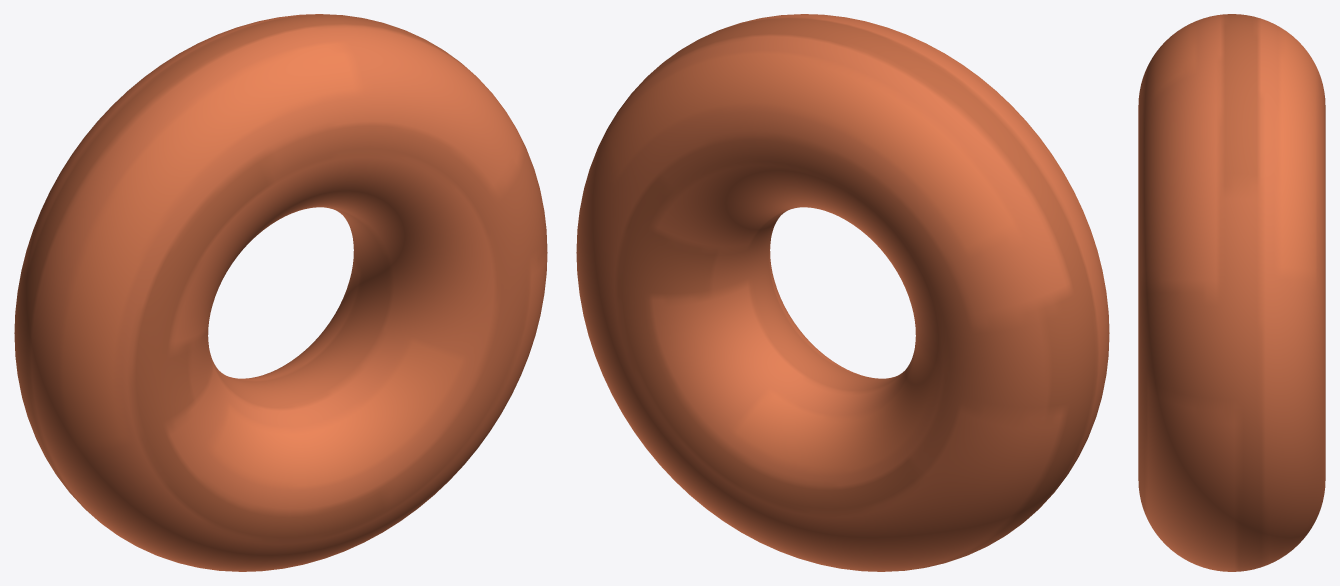
File: DonutT_Ph.fbx
3 renders of one model, left to right at view 1: azimuth 30°, elevation 25°; view 2: azimuth 150°, elevation 25°; view 3: azimuth 270°, elevation 25°, orthographic. The views are drawn at different scales.
Parts seen in each view (by area): view 1: pTorus1; view 2: pTorus1; view 3: pTorus1.
Boxes of the visible parts, bbox=[...] form: pTorus1: bbox=[14, 14, 547, 571]; pTorus1: bbox=[576, 14, 1109, 571]; pTorus1: bbox=[1138, 14, 1325, 571].
Size of the model in its own units: 1.47 by 1.47 by 0.4924.
1 material, 1 textured.
